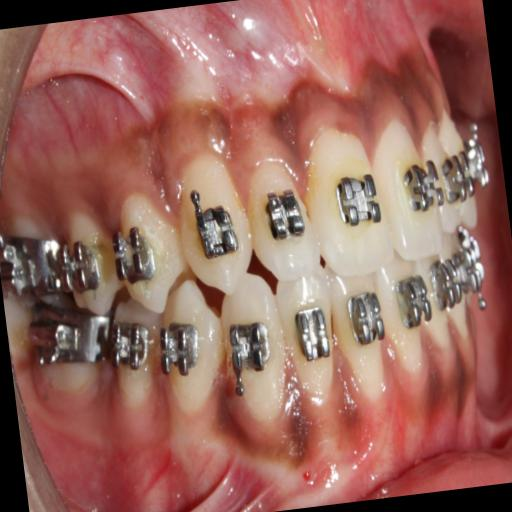correct_brace: (106, 188, 190, 314), (156, 280, 224, 413), (188, 197, 246, 268), (330, 163, 384, 231), (156, 311, 205, 383), (263, 186, 309, 247), (224, 320, 274, 374), (294, 303, 332, 363)
incorrect_brace: (241, 153, 320, 279), (272, 268, 343, 408), (112, 222, 152, 280)
